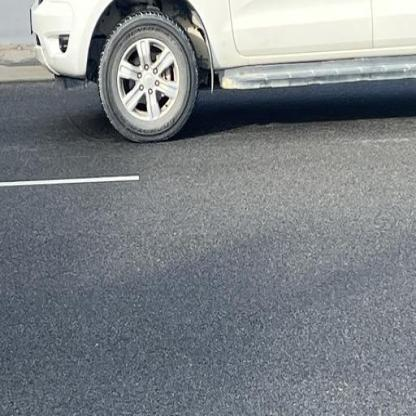Tire: (97, 11, 201, 144)
